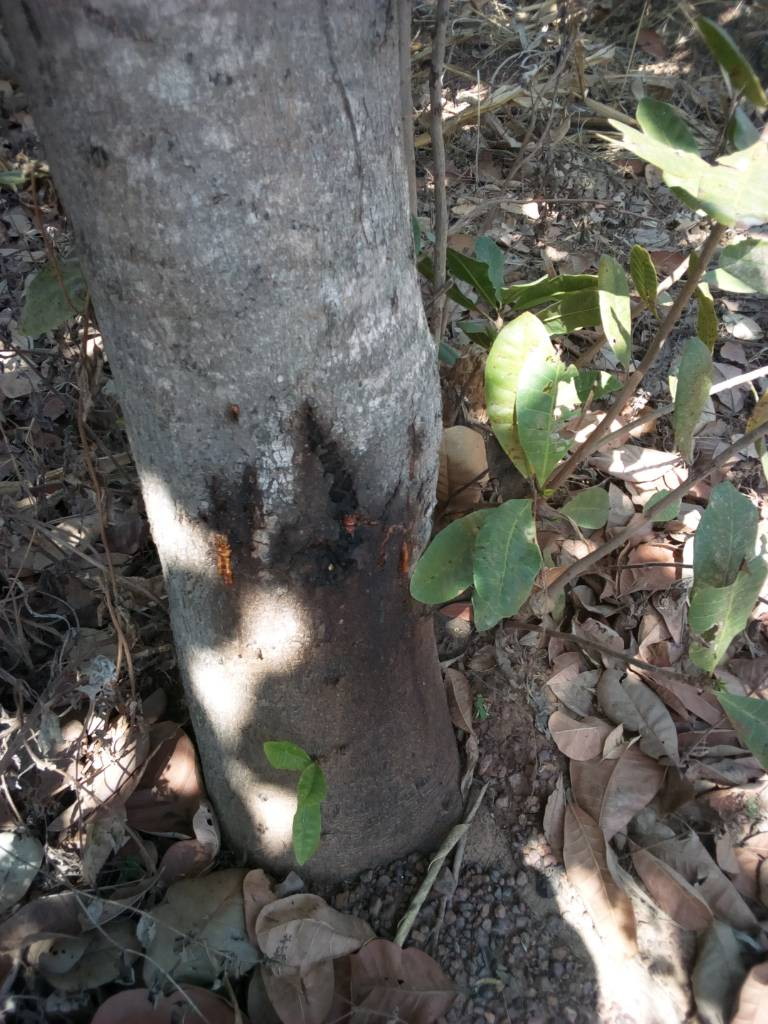Gommose: (194, 419, 432, 610)
